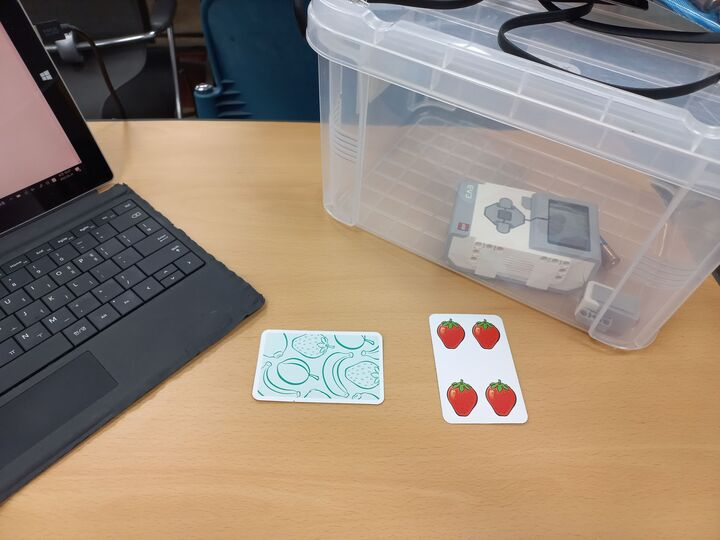strawberry4: (428, 311, 530, 425)
